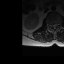CCS_normal: (53, 22, 55, 31)
LFS_stenosis: (57, 22, 58, 27)
LLS_normal: (55, 22, 57, 28)
RFS_stenosis: (49, 22, 51, 28)
RLS_normal: (51, 23, 53, 29)
